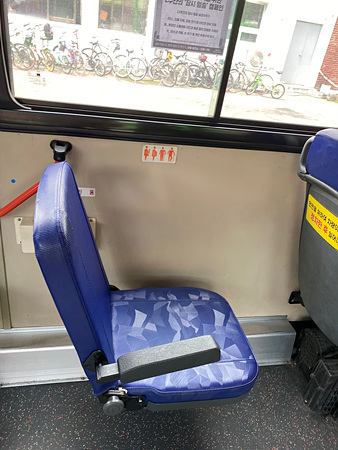seat: (35, 162, 257, 409)
